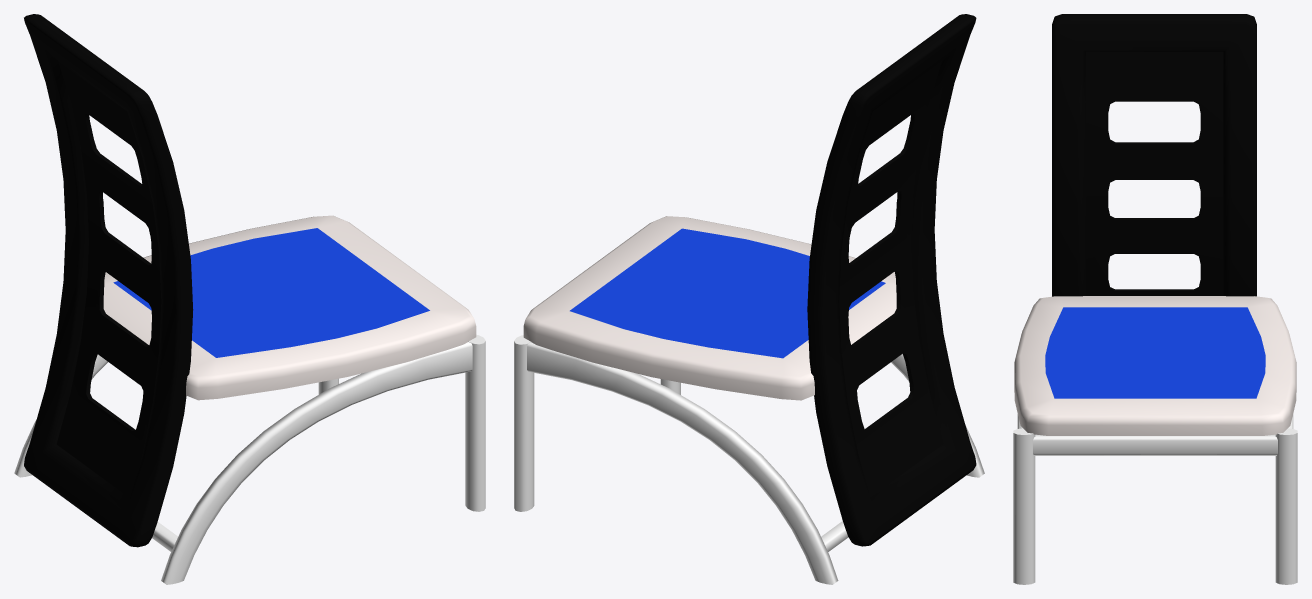
File: ghe 03.FBX
The picture shows the model from 3 angles, left to right: view 1: azimuth 30°, elevation 25°; view 2: azimuth 150°, elevation 25°; view 3: azimuth 270°, elevation 25°; orthographic projection. The views are drawn at different scales.
Parts seen in each view (by area): view 1: Box1276; view 2: Box1276; view 3: Box1276.
Boxes of the visible parts, x1=… form: Box1276: x1=14, y1=14, x2=485, y2=584; Box1276: x1=514, y1=14, x2=984, y2=584; Box1276: x1=1013, y1=14, x2=1297, y2=584.
Bounding box in the file's own units: 1.6 × 2.19 × 1.32.
